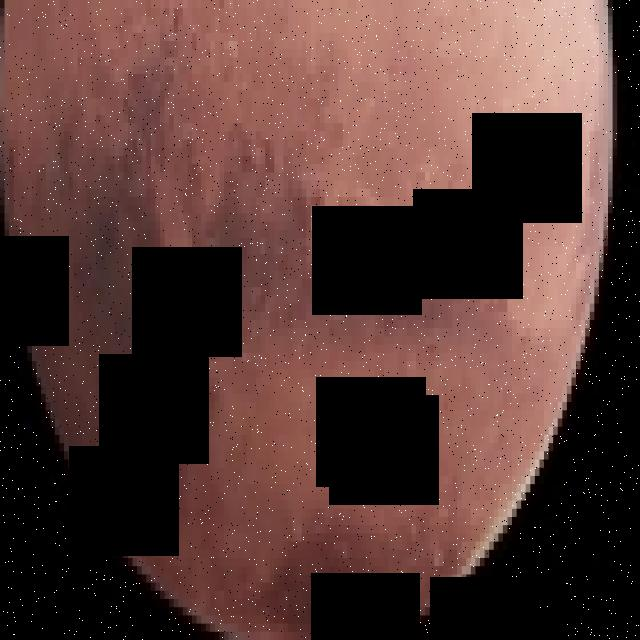Mars: (0, 0, 612, 640)
